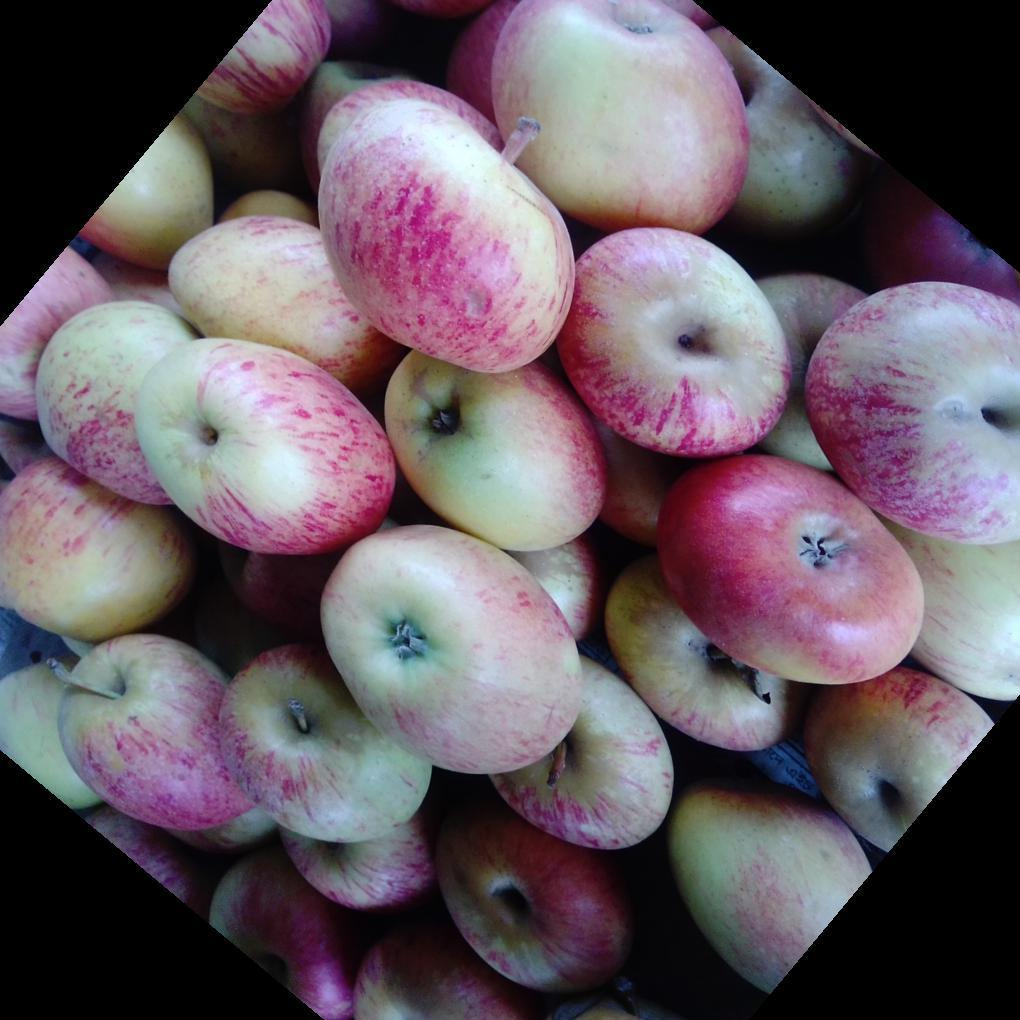FreshGuava: (0, 0, 1020, 880)
